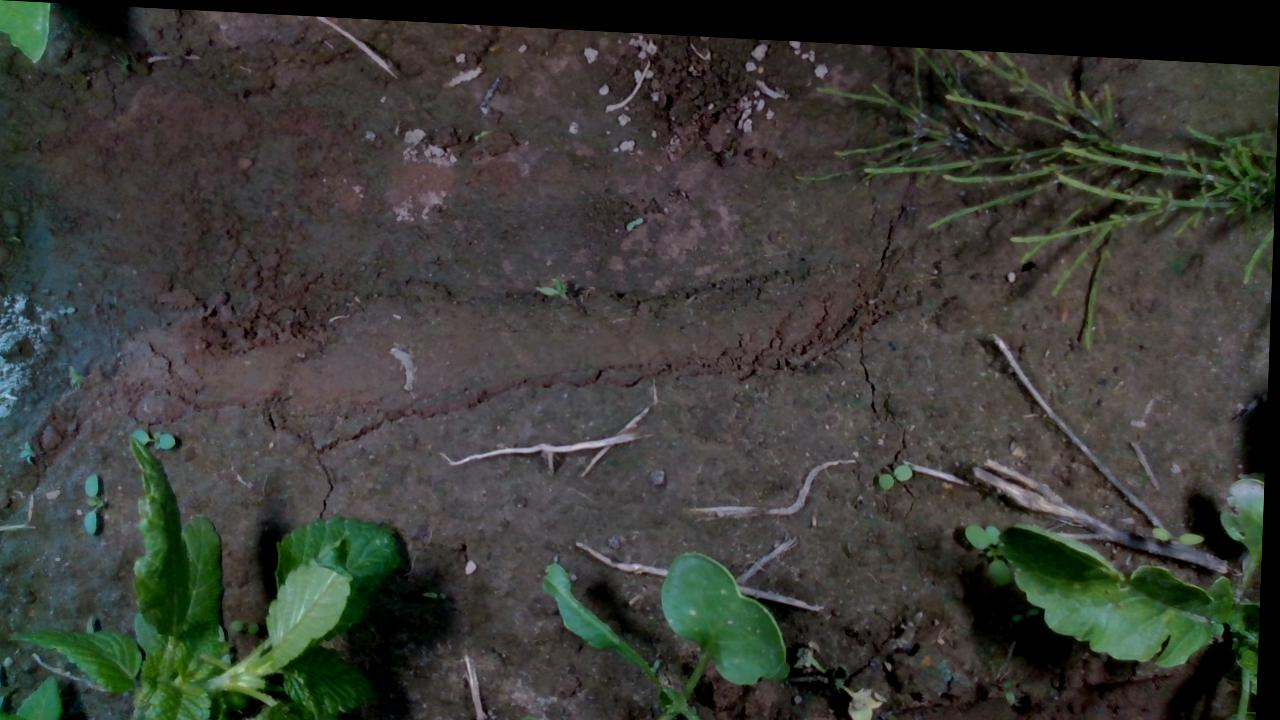weed: (879, 451, 918, 482), (84, 468, 102, 534), (1153, 512, 1208, 533), (232, 614, 265, 630), (58, 303, 79, 314)
